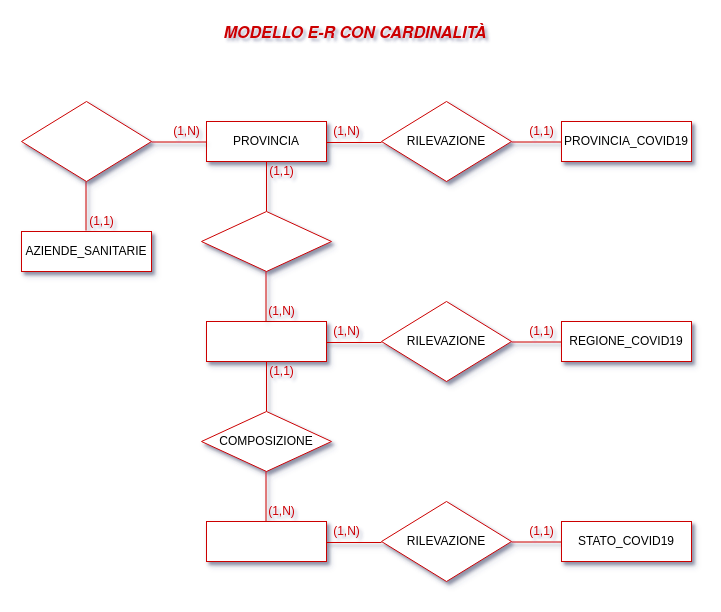
Some shapes in this 721 by 612 pixel diagram are drawn without their labels. The centre of each missing label's shape, as x and y in pixels:
"APPARTENENZA" goes at point 267,242.
"GESTIONE" goes at point 87,142.
"REGIONE" goes at point 267,342.
"STATO" goes at point 267,542.
